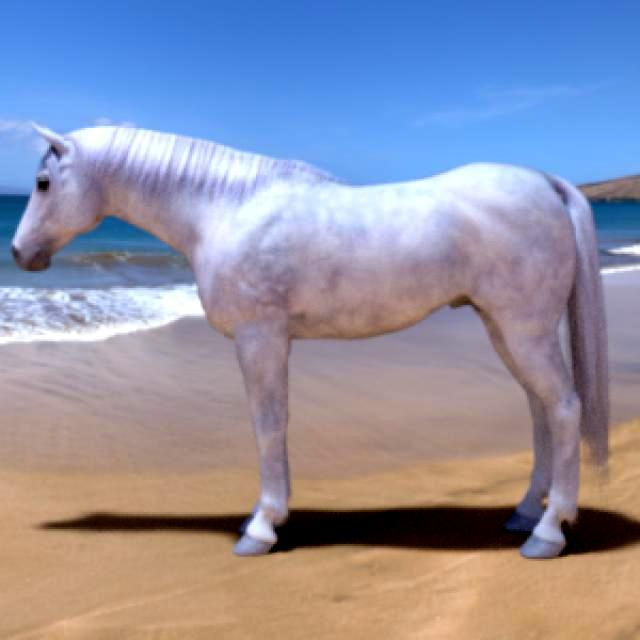horse: (12, 126, 608, 557)
